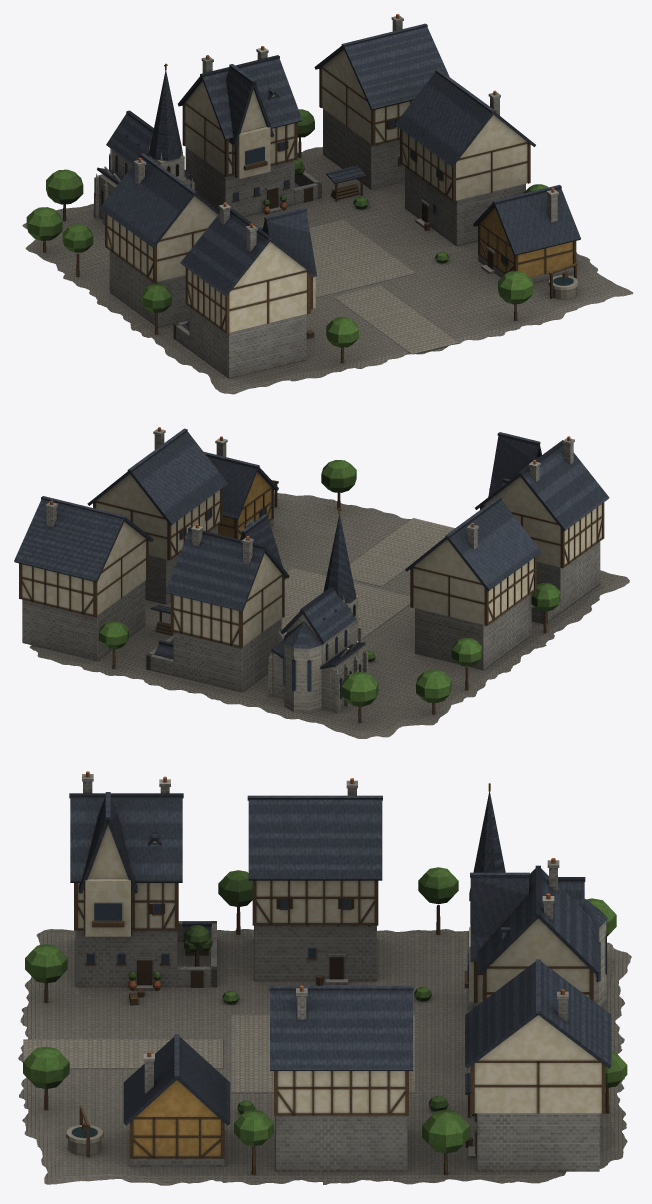
The model's file is kingdoms-town-small-a-europe.glb.
3 renders of one model, top to bottom at view 1: azimuth 30°, elevation 25°; view 2: azimuth 150°, elevation 25°; view 3: azimuth 270°, elevation 25°, orthographic. The views are drawn at different scales.
Visible parts, largest first — view 1: LOD0; view 2: LOD0; view 3: LOD0.
Part boxes in pixels (<box>): LOD0: <box>22,14,633,394</box>; LOD0: <box>14,427,629,738</box>; LOD0: <box>18,771,631,1185</box>.
Size of what is drawn, in the model's own units: 4.02 by 1.59 by 4.06.
2 materials, 2 textured.
